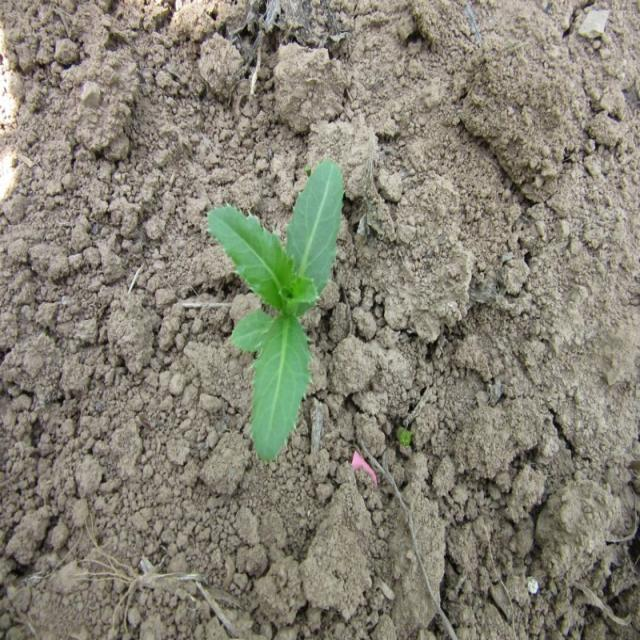field_thistle: (206, 162, 367, 480)
